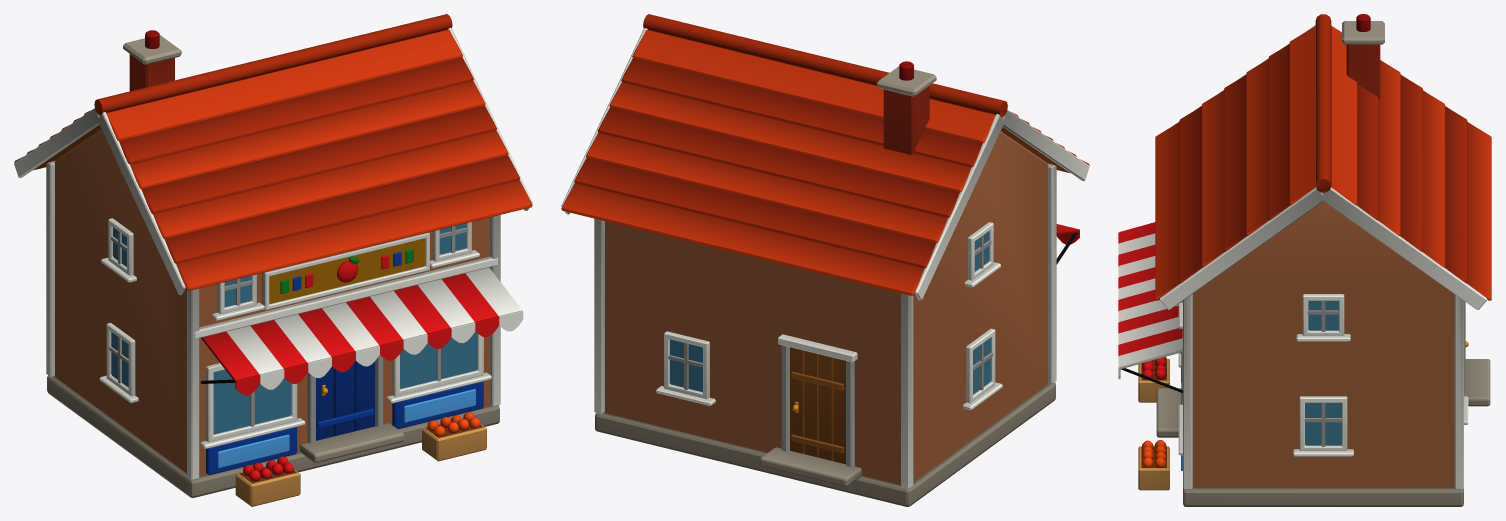
Rendered from Shop.fbx.
3 views of the same model, side by side, from view 1: azimuth 30°, elevation 25°; view 2: azimuth 150°, elevation 25°; view 3: azimuth 270°, elevation 25° (orthographic). The views are drawn at different scales.
Parts seen in each view (by area): view 1: Shop; view 2: Shop; view 3: Shop.
Part boxes in pixels (x1=…): Shop: x1=14, y1=14, x2=532, y2=506; Shop: x1=561, y1=14, x2=1089, y2=506; Shop: x1=1118, y1=14, x2=1491, y2=506.
Size of the model in its own units: 4.88 by 5.14 by 4.68.
